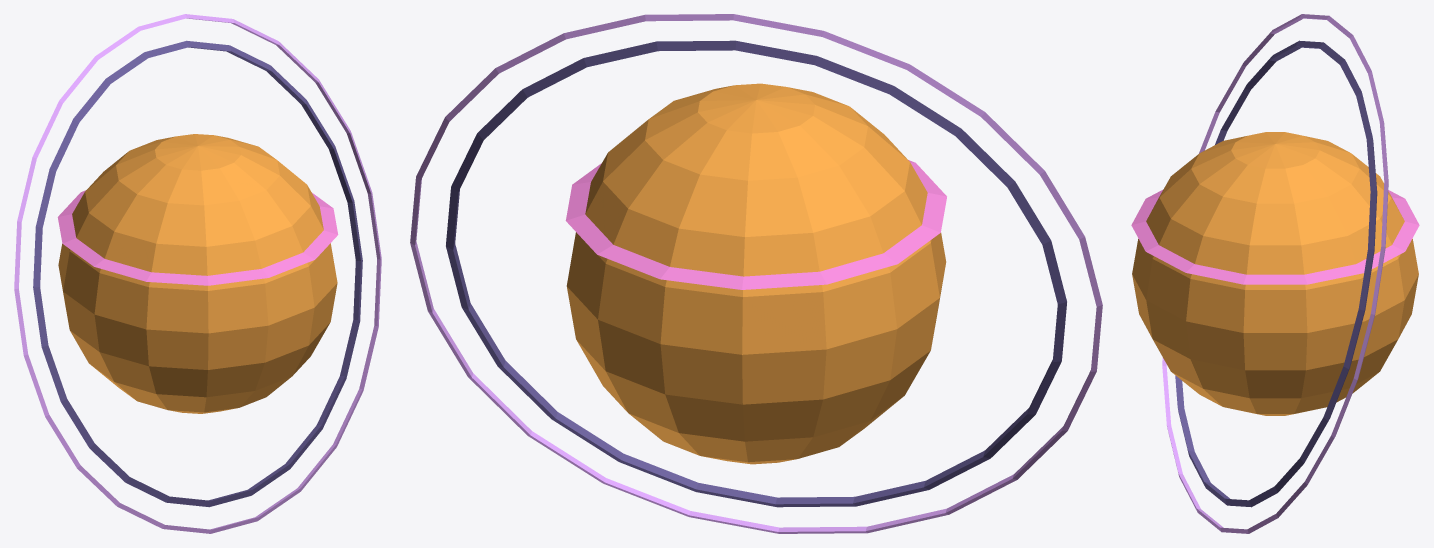
Rendered from Planet_Ringed.obj.
3 views of the same model, side by side, from view 1: azimuth 30°, elevation 25°; view 2: azimuth 150°, elevation 25°; view 3: azimuth 270°, elevation 25° (orthographic). The views are drawn at different scales.
Visible parts, largest first — view 1: Planet_Ringed; view 2: Planet_Ringed; view 3: Planet_Ringed.
Part boxes in pixels (x1,y1,x2,y2): Planet_Ringed: (14, 14, 381, 533); Planet_Ringed: (410, 14, 1102, 533); Planet_Ringed: (1131, 14, 1419, 533).
Bounding box in the file's own units: 14.04 × 14.04 × 8.04.
Materials: 1 (1 with a texture image).
